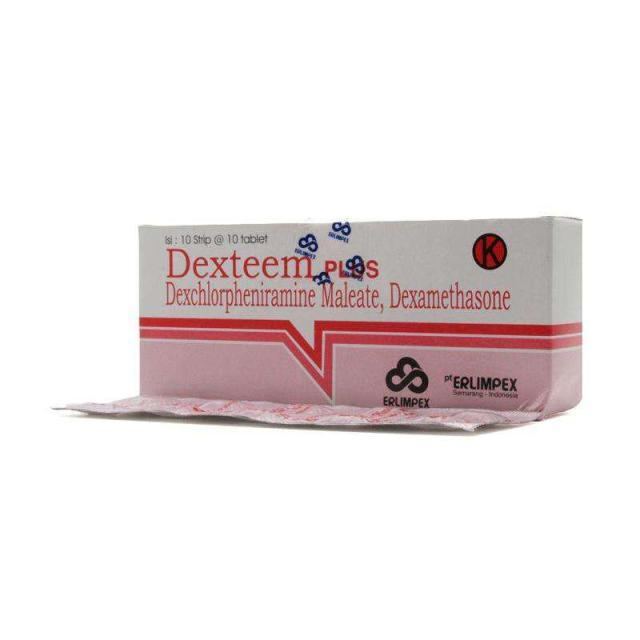drug-name: (165, 243, 380, 280)
